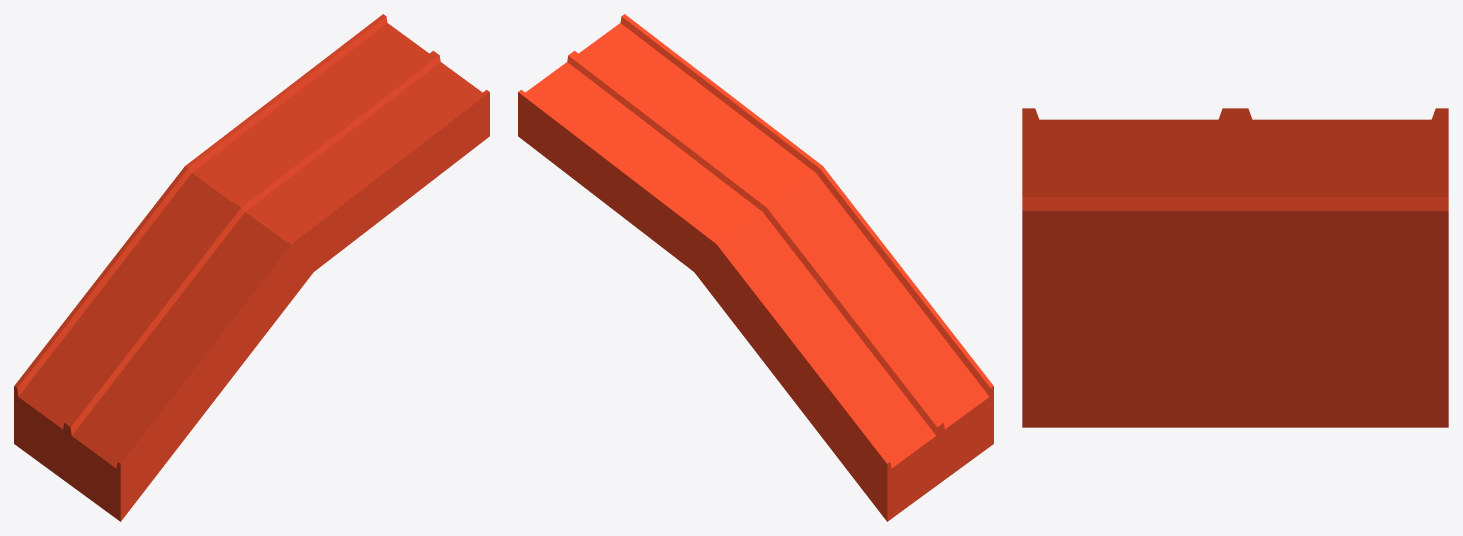
The model's file is roof-metal-regular-moderate-1x2m.fbx.
3 renders of one model, left to right at view 1: azimuth 30°, elevation 25°; view 2: azimuth 150°, elevation 25°; view 3: azimuth 270°, elevation 25°, orthographic. The views are drawn at different scales.
Visible parts, largest first — view 1: roof-metal-regular-moderate-1x2m; view 2: roof-metal-regular-moderate-1x2m; view 3: roof-metal-regular-moderate-1x2m.
Boxes of the visible parts, <box> form: roof-metal-regular-moderate-1x2m: <box>14,14,489,521</box>; roof-metal-regular-moderate-1x2m: <box>518,14,993,521</box>; roof-metal-regular-moderate-1x2m: <box>1022,108,1448,427</box>.
Size of the model in its own units: 2 by 1.76 by 1.
